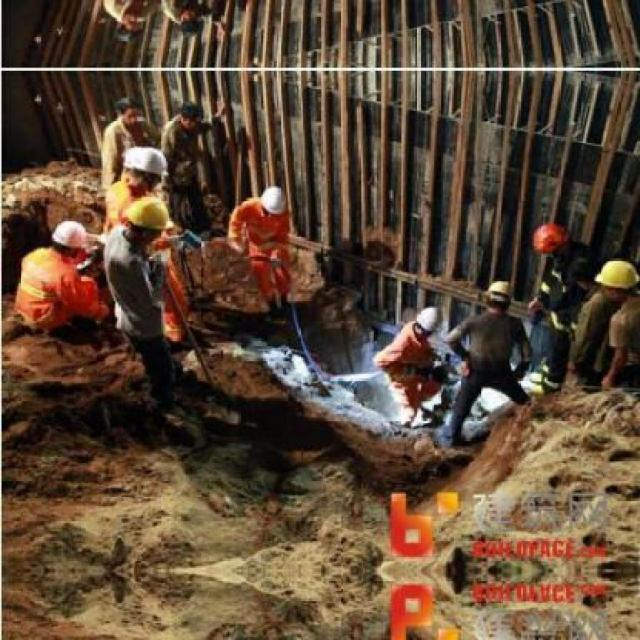hat: (119, 194, 172, 234), (120, 142, 169, 178), (49, 212, 89, 255), (594, 260, 638, 294), (528, 217, 564, 256), (258, 177, 291, 217), (481, 275, 517, 300), (414, 304, 442, 332)
